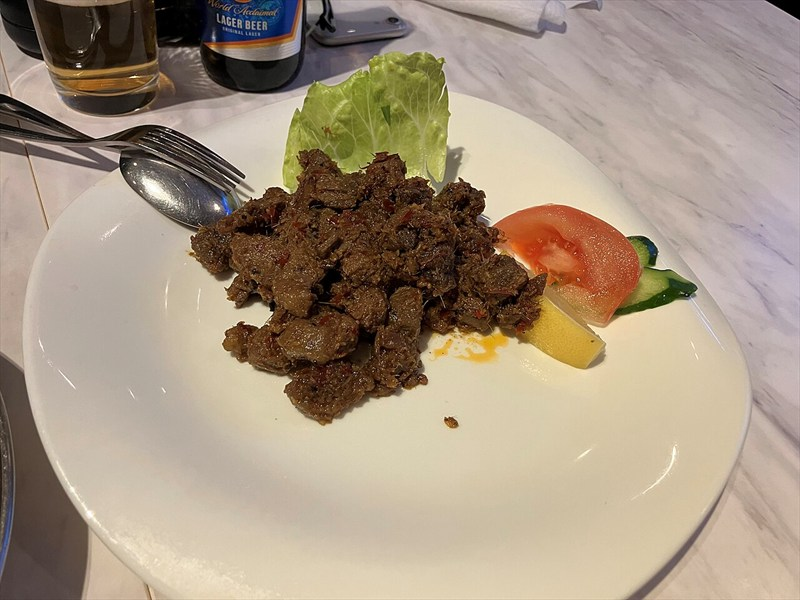Rendang: (37, 14, 663, 416)
